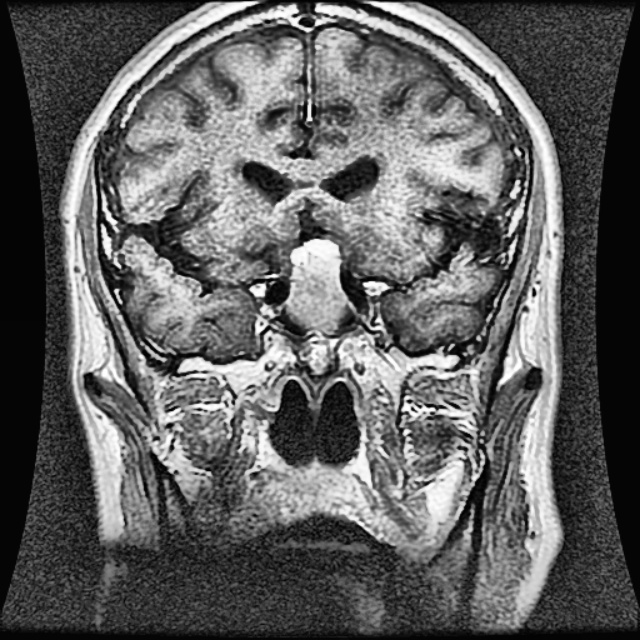Pituitary: (285, 237, 345, 330)
